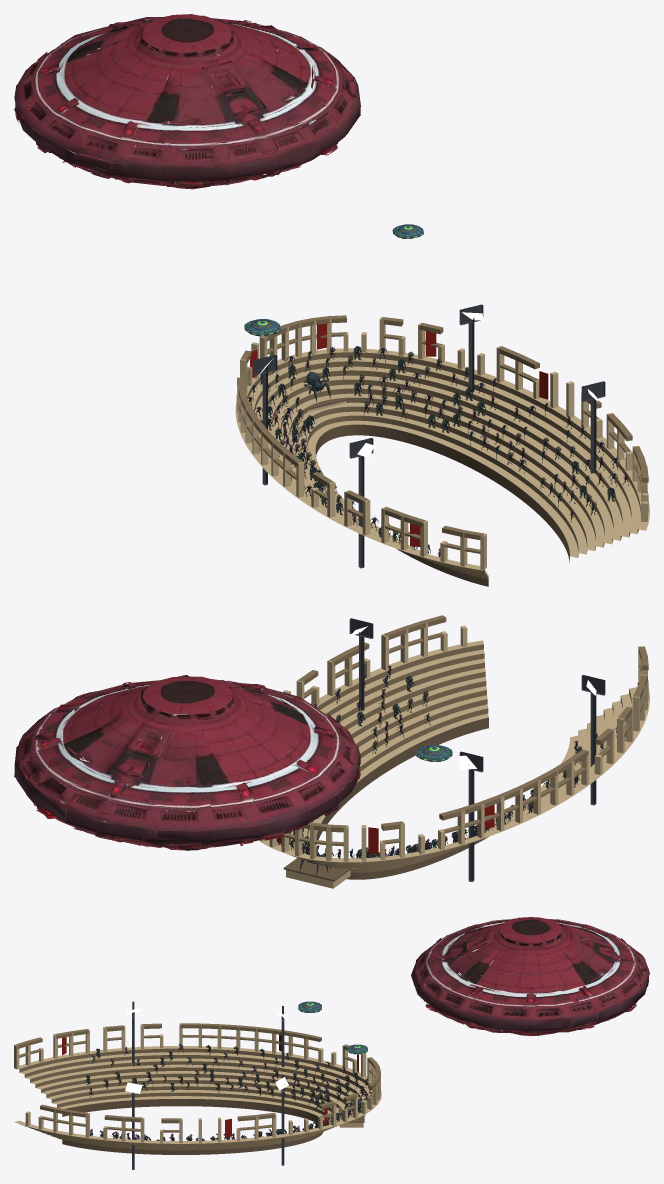
The model's file is arena-coliseo.glb.
The picture shows the model from 3 angles, top to bottom: view 1: azimuth 30°, elevation 25°; view 2: azimuth 150°, elevation 25°; view 3: azimuth 270°, elevation 25°; orthographic projection. The views are drawn at different scales.
Parts seen in each view (by area): view 1: nodriza, graderio, atico, publico_1, publico_0, publico_2, estandartes, torre_3, torre_2, torre_0; view 2: nodriza, graderio, atico, palco, torre_2, publico_1, torre_0, publico_2, publico_0, torre_3, estandartes, platillo_0; view 3: nodriza, graderio, atico, publico_0, publico_2, publico_1.
Boxes of the visible parts, x1,y1,x2,y2 form: nodriza: (14,14,360,189); graderio: (235,348,649,586); atico: (236,315,648,569); publico_1: (260,347,615,557); publico_0: (252,346,629,542); publico_2: (248,347,619,553); estandartes: (250,323,548,546); torre_3: (581,381,605,473); torre_2: (349,438,373,568); torre_0: (253,355,277,485); nodriza: (14,675,360,850); graderio: (248,640,649,879); atico: (240,615,648,861); palco: (283,858,351,888); torre_2: (581,675,605,805); publico_1: (290,676,625,858); torre_0: (459,751,483,881); publico_2: (278,675,605,858); publico_0: (268,665,616,858); torre_3: (349,618,373,710); estandartes: (276,682,638,854); platillo_0: (416,745,452,761); nodriza: (411,917,649,1036); graderio: (14,1046,381,1154); atico: (14,1023,380,1143); publico_0: (90,1044,372,1140); publico_2: (85,1046,368,1140); publico_1: (89,1045,371,1140).
Size of the model in its own units: 70.23 by 66.1 by 187.
Materials: 15 (9 with a texture image).
